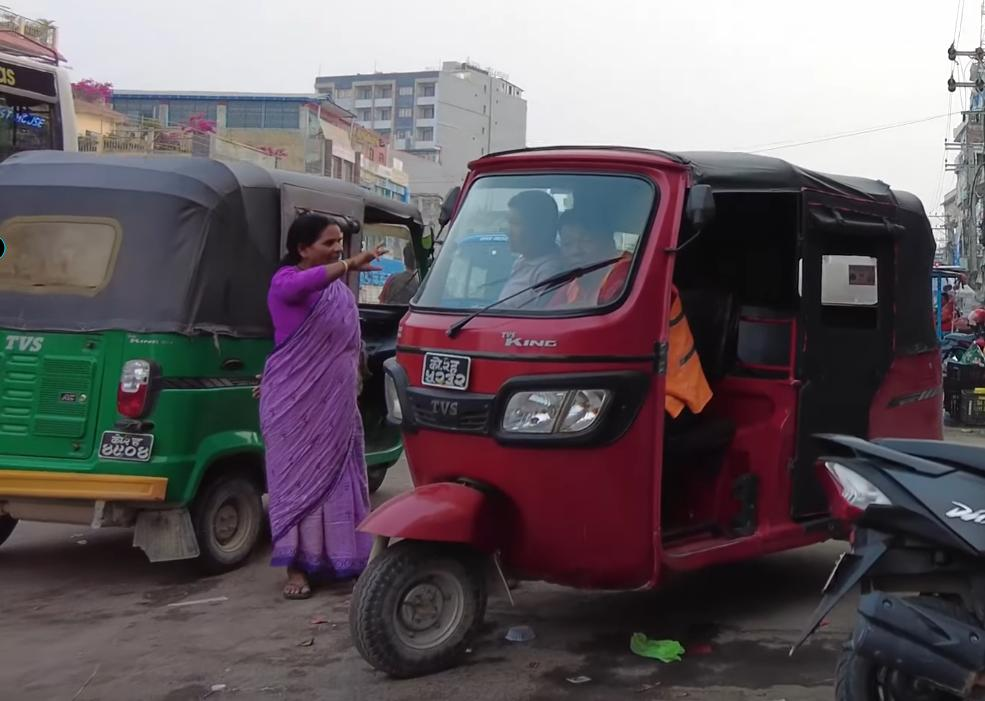auto_rickshaw: (336, 142, 949, 679), (0, 144, 440, 566)
